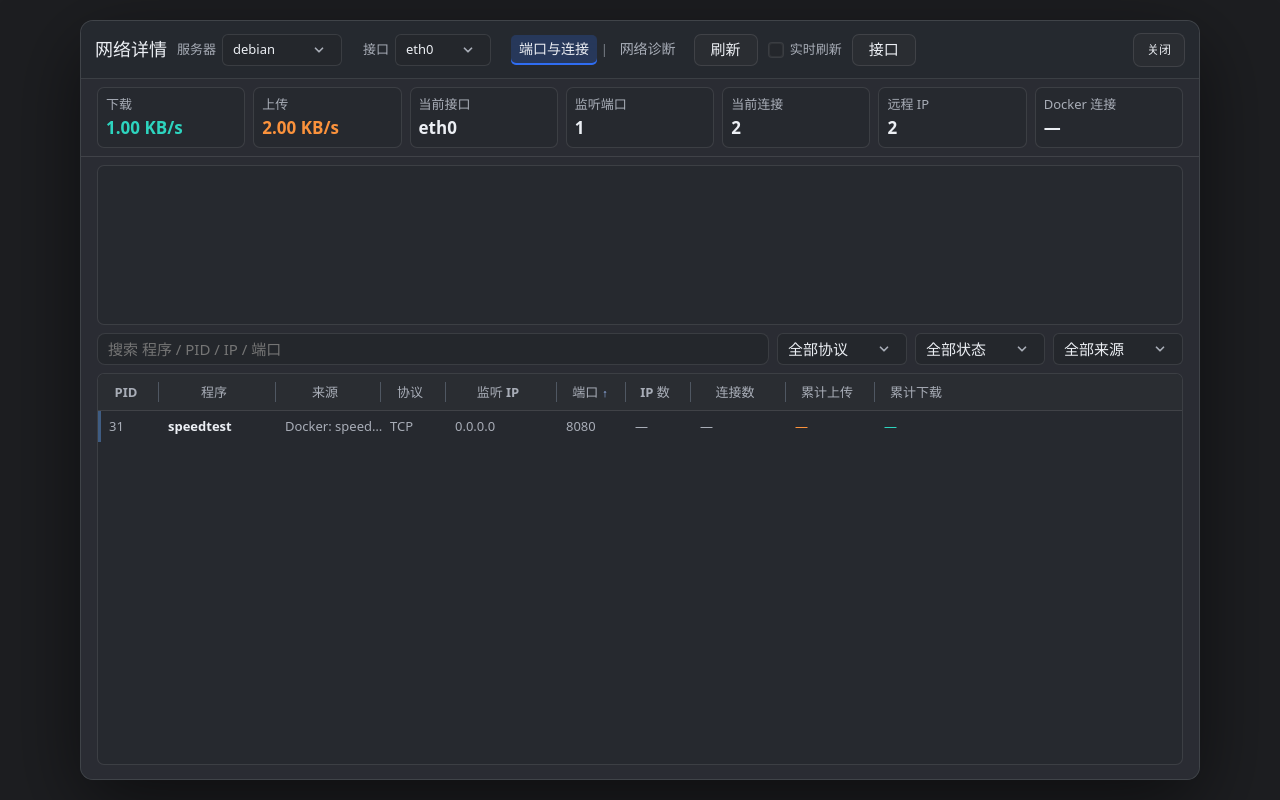
Test: NetworkDetailsDialog › renders docker listener source rows and source filters
Expected: the element with test id "network-details-dialog" shows "Docker 连接", [1044, 95, 1116, 113]
Expected: the element with test id "network-details-dialog" shows "远程 IP", [887, 95, 929, 113]
Type "speedtest-box" into the field with placeholder "搜索 程序 / PID / IP / 端口" at [433, 350], box [97, 334, 769, 366]
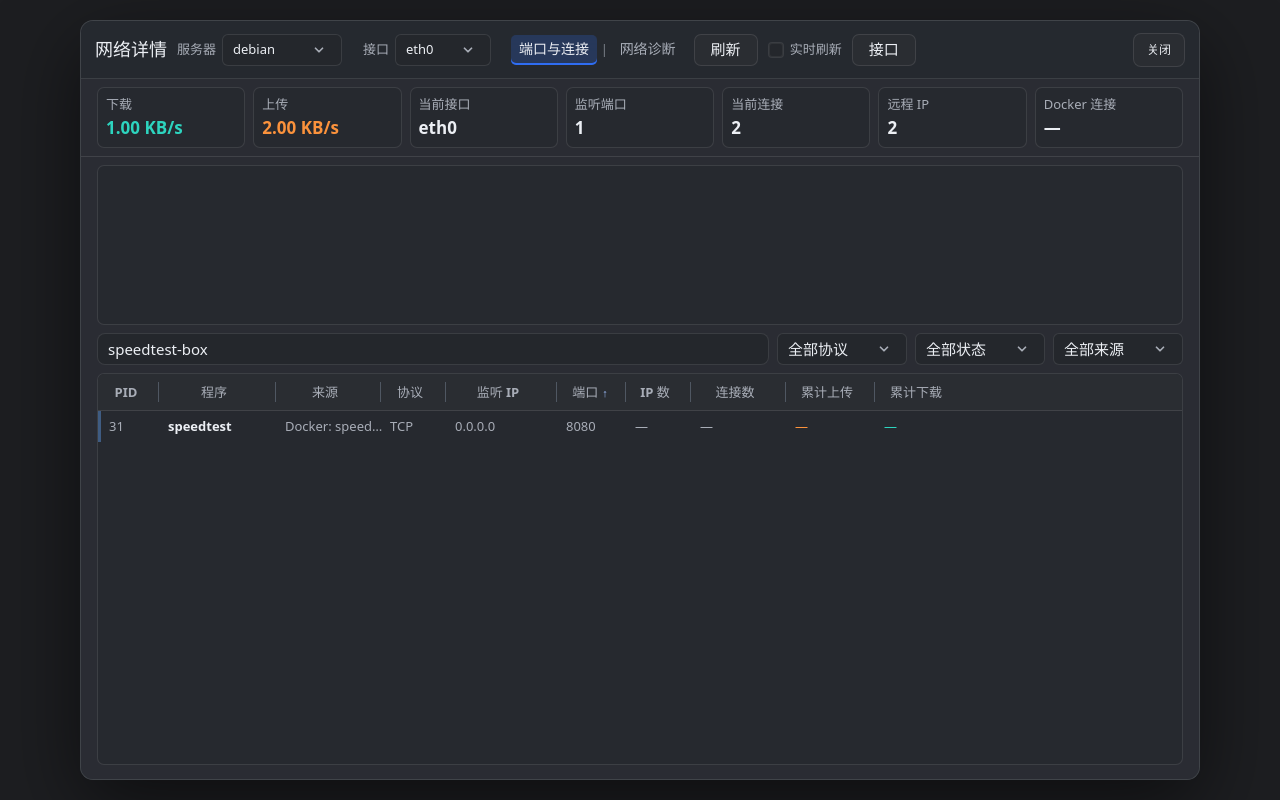
Expected: the element with test id "network-endpoint-table" shows "speedtest", [168, 418, 232, 436]
Clear the field at [433, 350], box [97, 334, 769, 366]
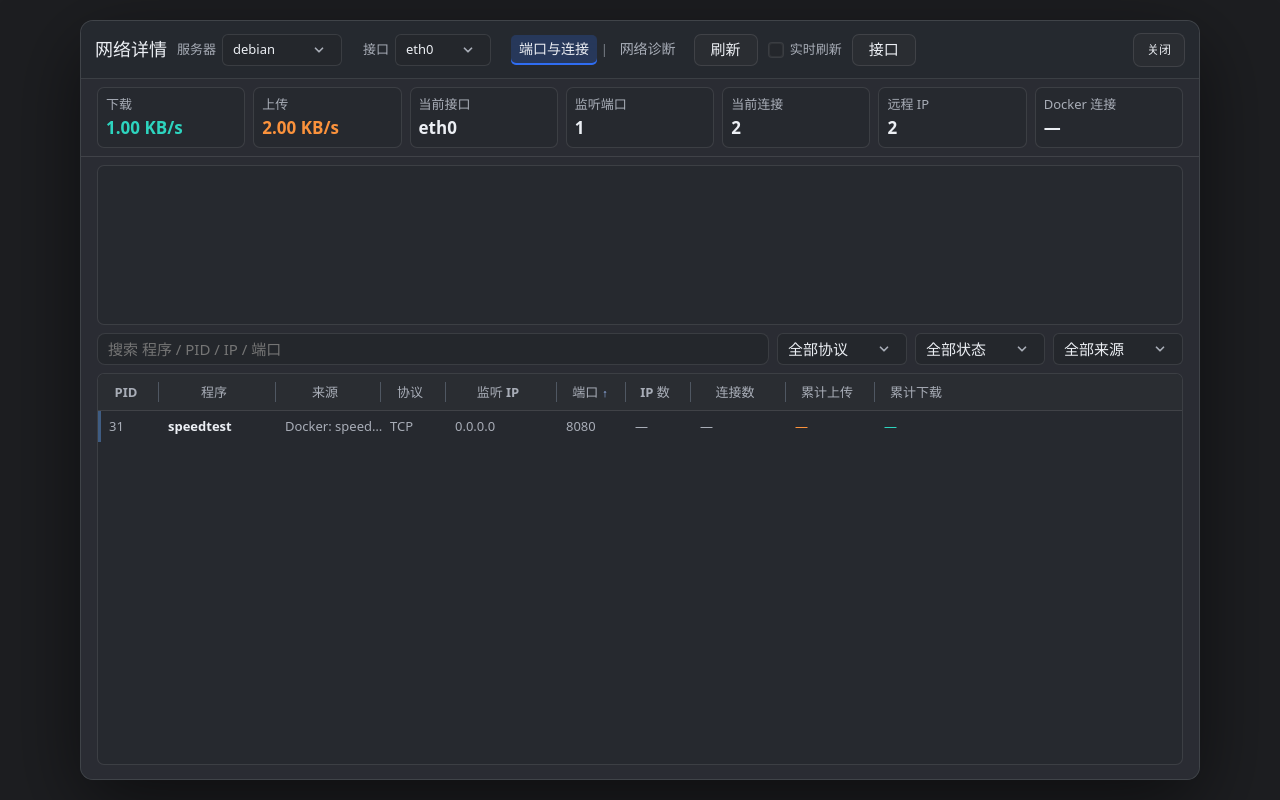
Select "宿主机" in the 5th dropdown at [1118, 350], box [1053, 334, 1183, 366]
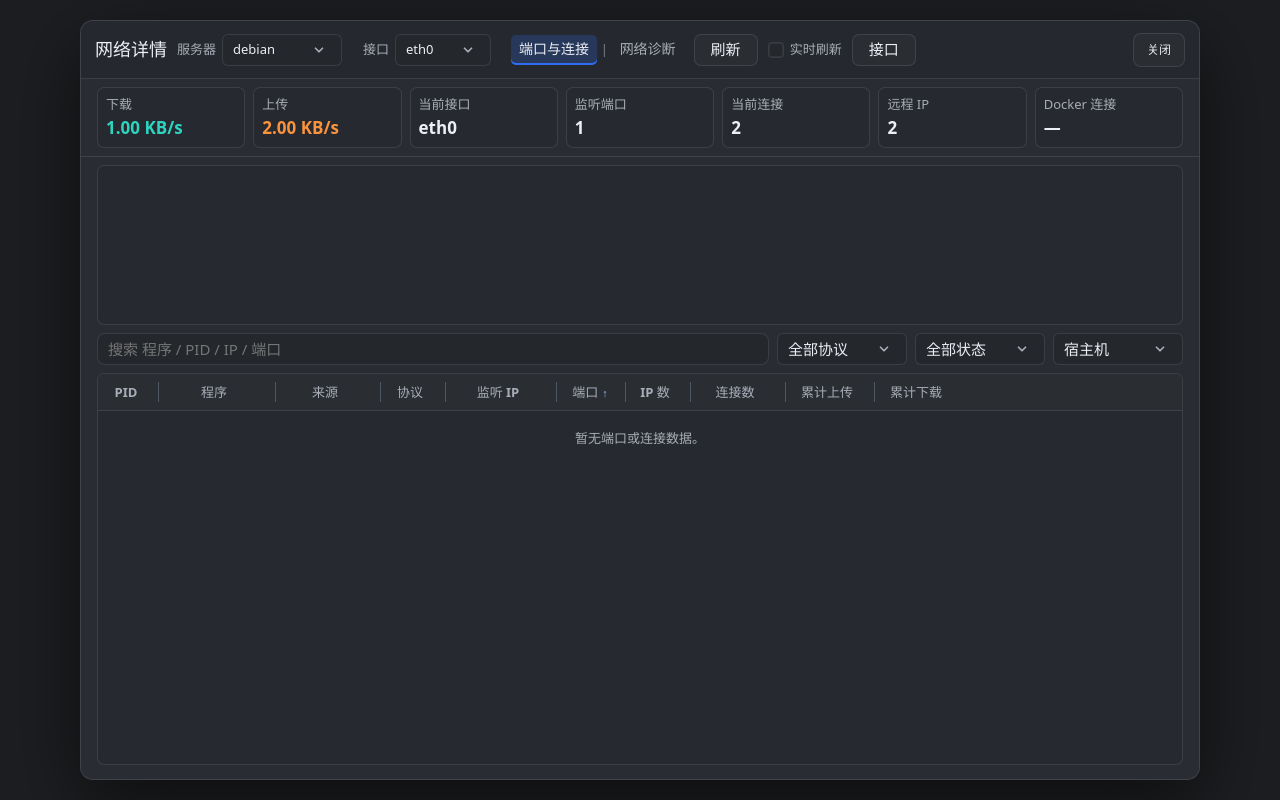
Result: the text with test id "network-endpoint-table" no longer shows "speedtest"
Select "Docker" in the 5th dropdown at [1118, 350], box [1053, 334, 1183, 366]
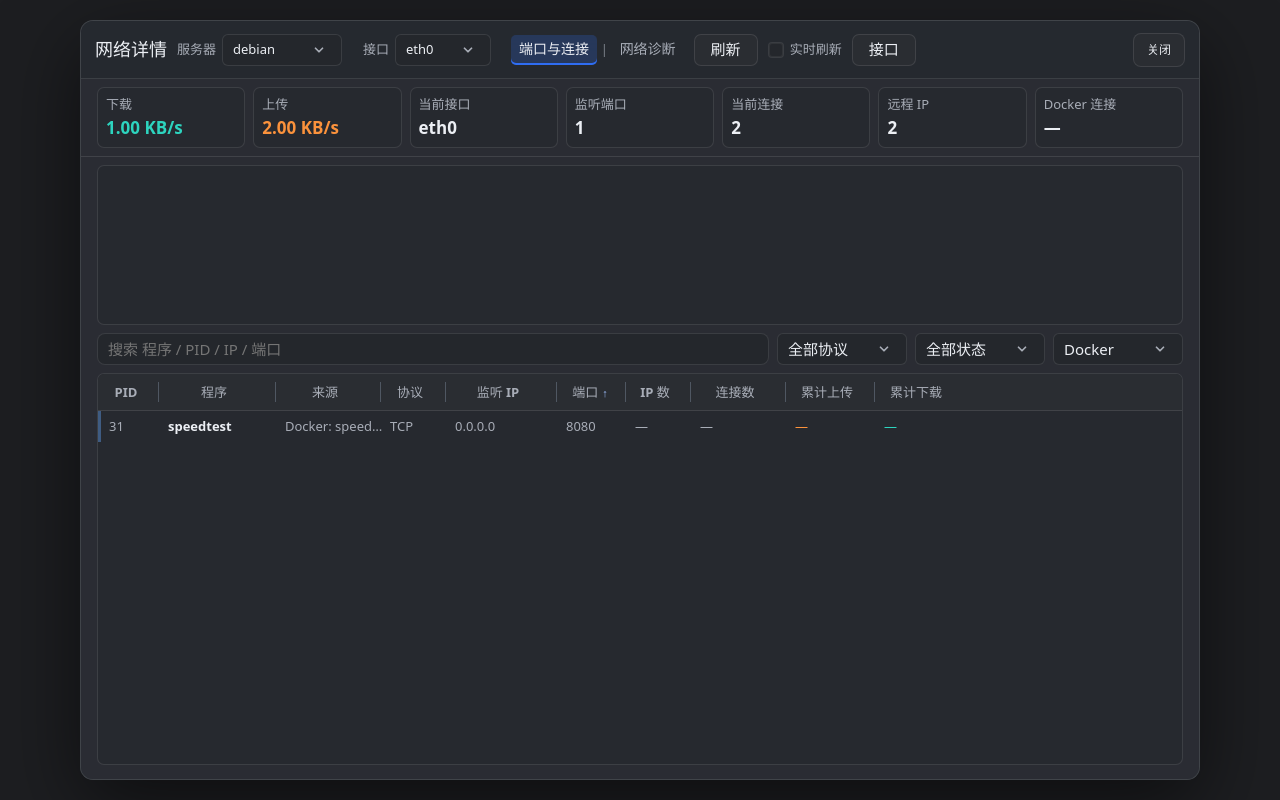
Result: the element with test id "network-endpoint-table" shows "speedtest" at [168, 418, 232, 436]
